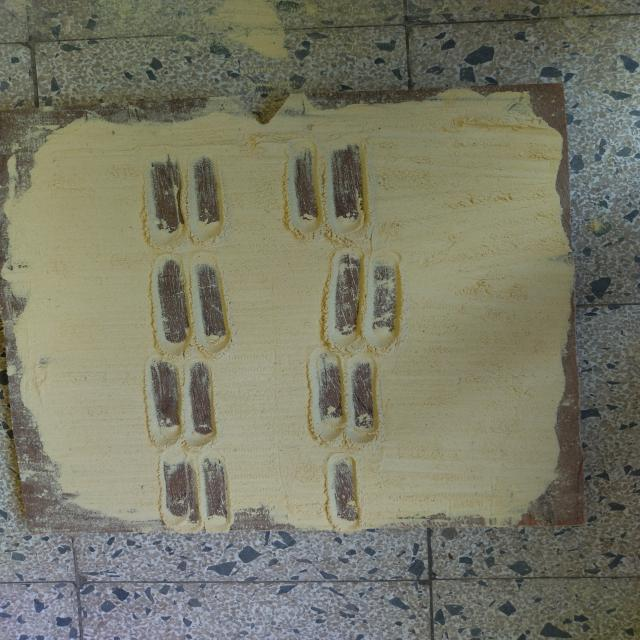double: (280, 132, 374, 242), (136, 146, 232, 252), (143, 250, 235, 360), (316, 241, 408, 351), (136, 356, 224, 454), (303, 348, 386, 449), (151, 448, 238, 536)
single: (321, 446, 368, 534)
